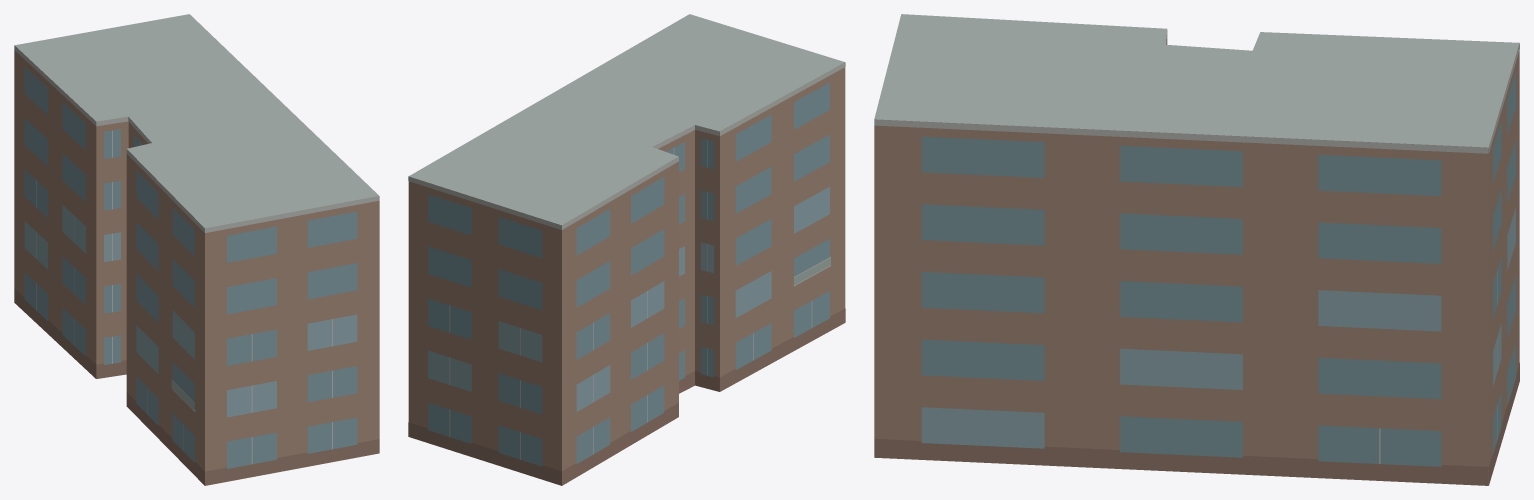
File: survey-upis-32737367.glb
3 renders of one model, left to right at view 1: azimuth 30°, elevation 25°; view 2: azimuth 150°, elevation 25°; view 3: azimuth 270°, elevation 25°, orthographic. The views are drawn at different scales.
Visible parts, largest first — view 1: survey-upis-32737367.tmp; view 2: survey-upis-32737367.tmp; view 3: survey-upis-32737367.tmp.
Boxes of the visible parts, x1,y1,x2,y2 form: survey-upis-32737367.tmp: [14, 14, 379, 485]; survey-upis-32737367.tmp: [408, 14, 845, 485]; survey-upis-32737367.tmp: [874, 14, 1519, 485].
Size of the model in its own units: 11.27 by 13.3 by 23.01.
